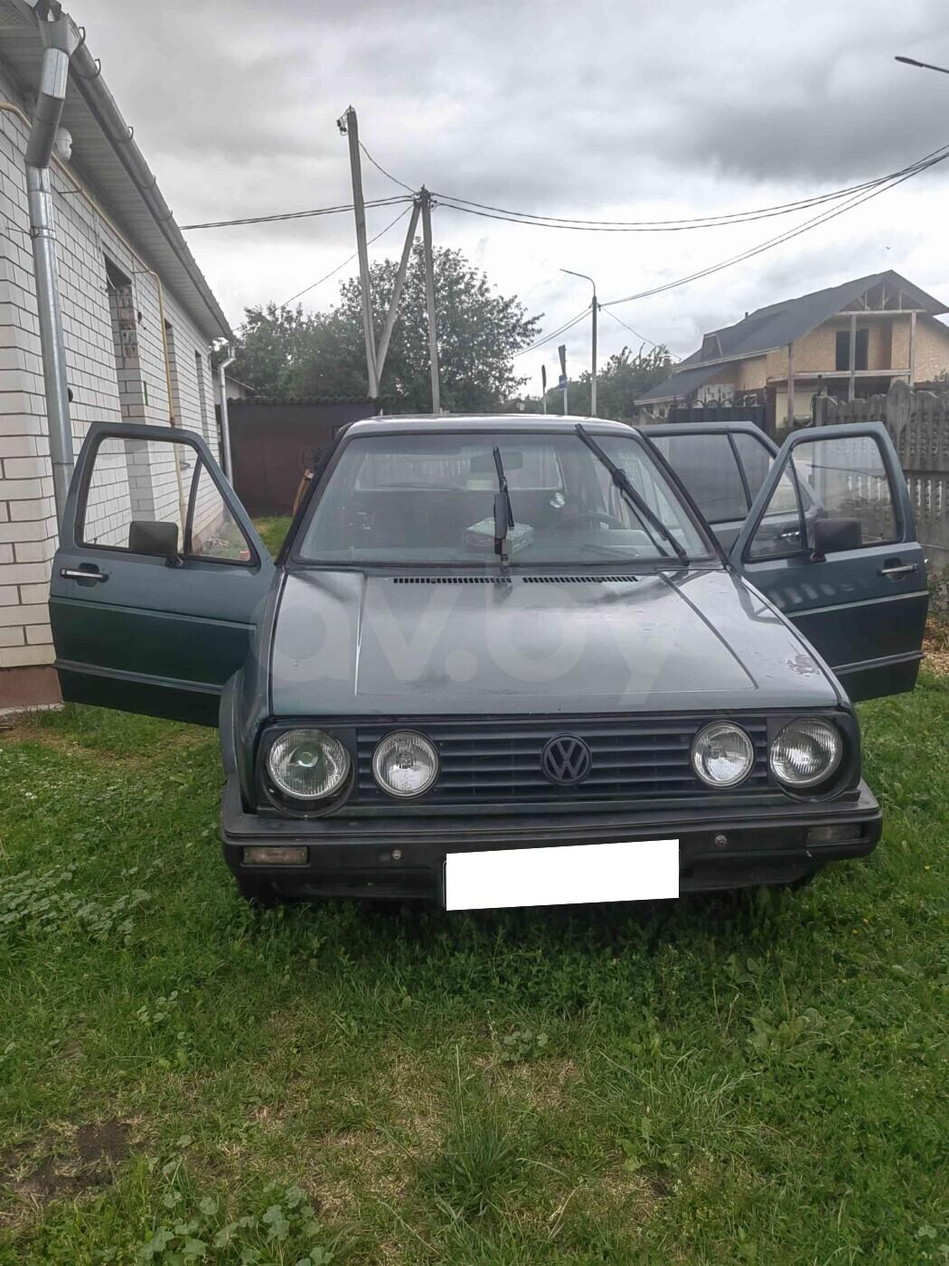Golf_1983-1992: (68, 394, 949, 944)
